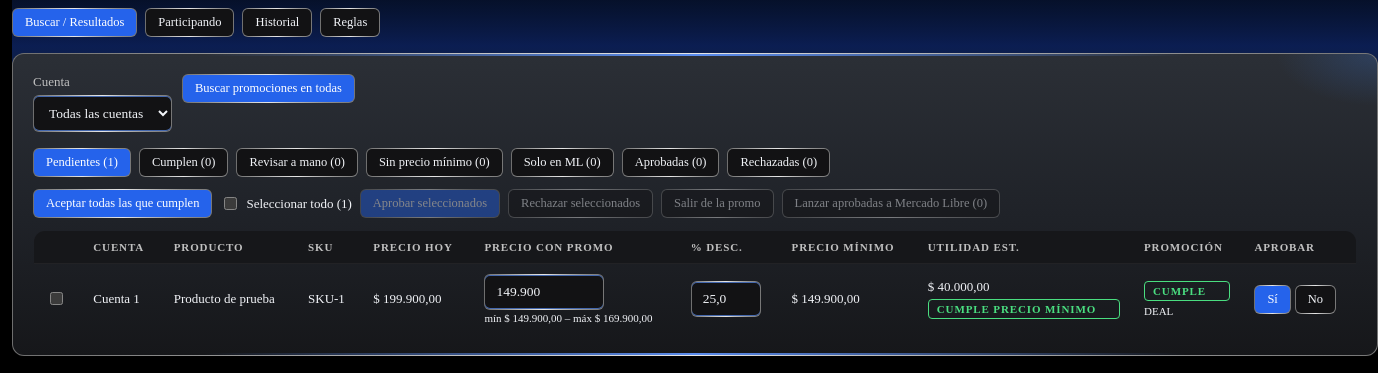
PaginaPromociones — punto 1 (rama fix-promociones-edicion): escribir libre, confirmar solo en blur/Enter › Esc descarta el borrador y vuelve a mostrar el valor ya confirmado, sin tocar nada
Check: the text "Producto de prueba" is shown, box x1=162 y1=264 x2=296 y2=334
Replace the text in the 1st field with "999" at (544, 292), box x1=484 y1=274 x2=604 y2=310
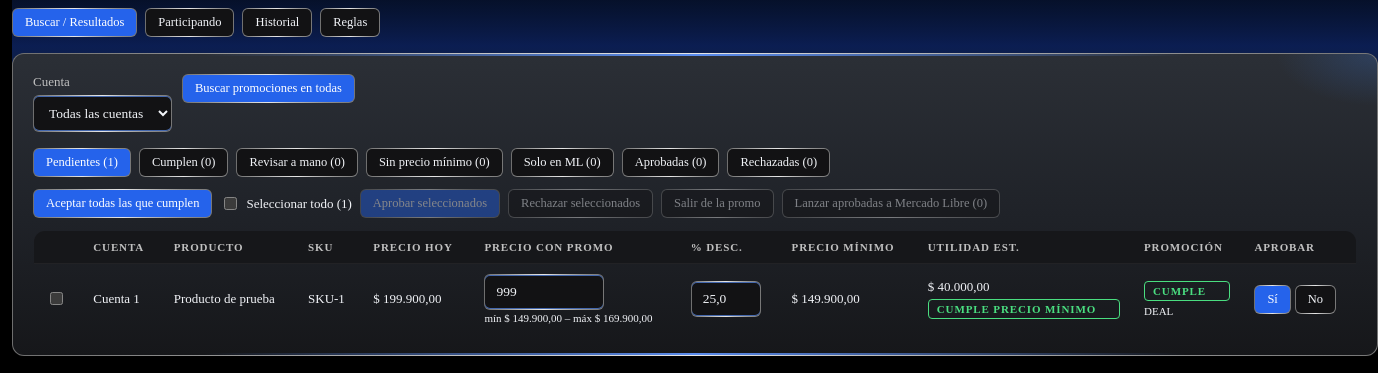
Press Escape in the 1st field, box x1=484 y1=274 x2=604 y2=310
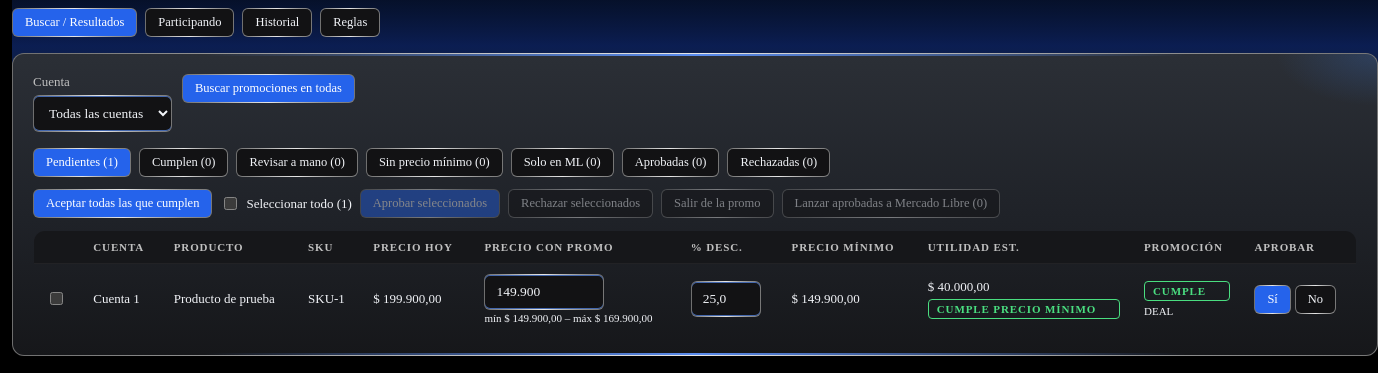
Check: the 1st field holds "149.900", box x1=484 y1=274 x2=604 y2=310
